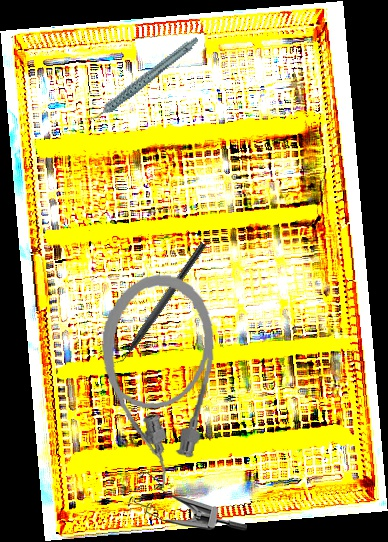Cannula: (89, 269, 221, 492)
Chopper: (107, 235, 207, 373)
Handpiece: (72, 36, 211, 123)
Speculum: (127, 471, 248, 532)
